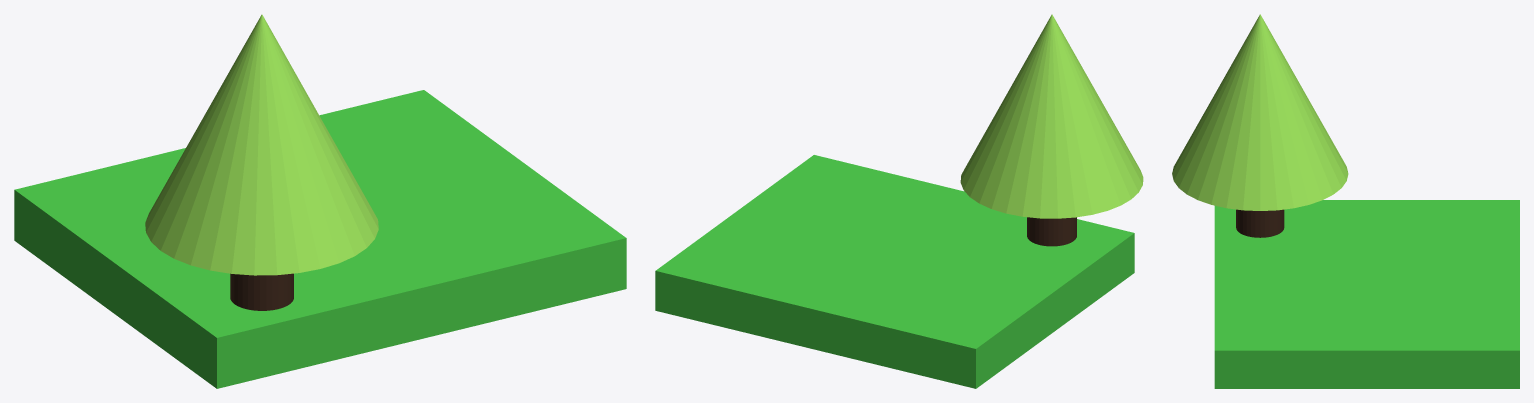
The picture shows the model from 3 angles, left to right: view 1: azimuth 30°, elevation 25°; view 2: azimuth 150°, elevation 25°; view 3: azimuth 270°, elevation 25°; orthographic projection. The views are drawn at different scales.
Parts seen in each view (by area): view 1: Cube, Cone, Cylinder; view 2: Cube, Cone, Cylinder; view 3: Cube, Cone, Cylinder.
Part boxes in pixels (left/top/right/bottom): Cube: left=14, top=90, right=626, bottom=388; Cone: left=145, top=14, right=378, bottom=275; Cylinder: left=230, top=273, right=293, bottom=310; Cube: left=655, top=155, right=1134, bottom=388; Cone: left=960, top=14, right=1143, bottom=218; Cylinder: left=1027, top=217, right=1076, bottom=246; Cube: left=1214, top=200, right=1519, bottom=388; Cone: left=1172, top=14, right=1348, bottom=210; Cylinder: left=1236, top=209, right=1284, bottom=237.
Size of the model in its own units: 15.72 by 11.54 by 14.43.
